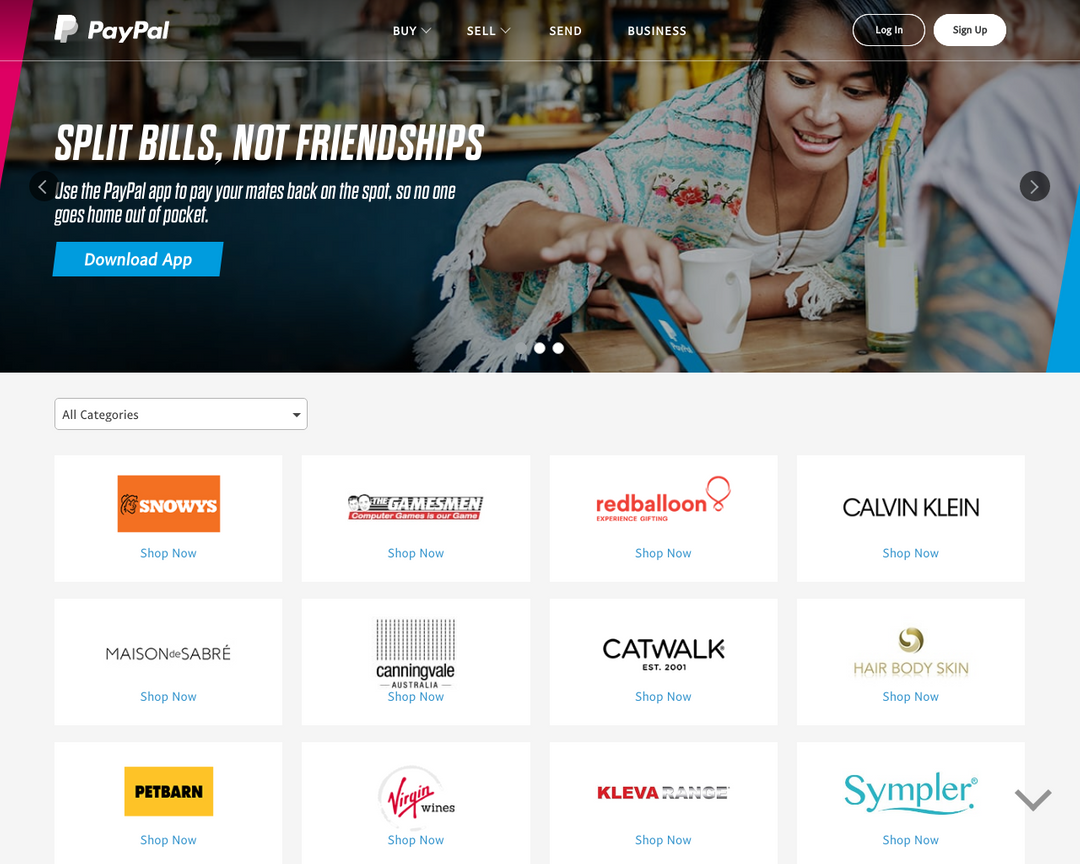Paypal: (490, 132, 592, 168)
